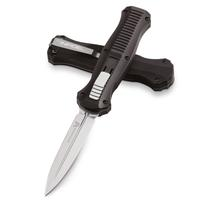knife: (42, 7, 148, 198)
